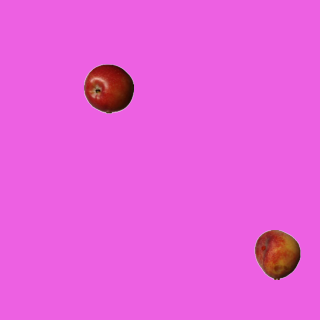Apple Braeburn: (83, 63, 133, 113)
Peach: (252, 229, 302, 279)
